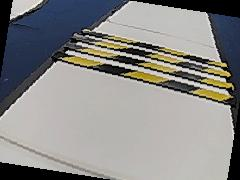bump: (54, 29, 235, 105)
